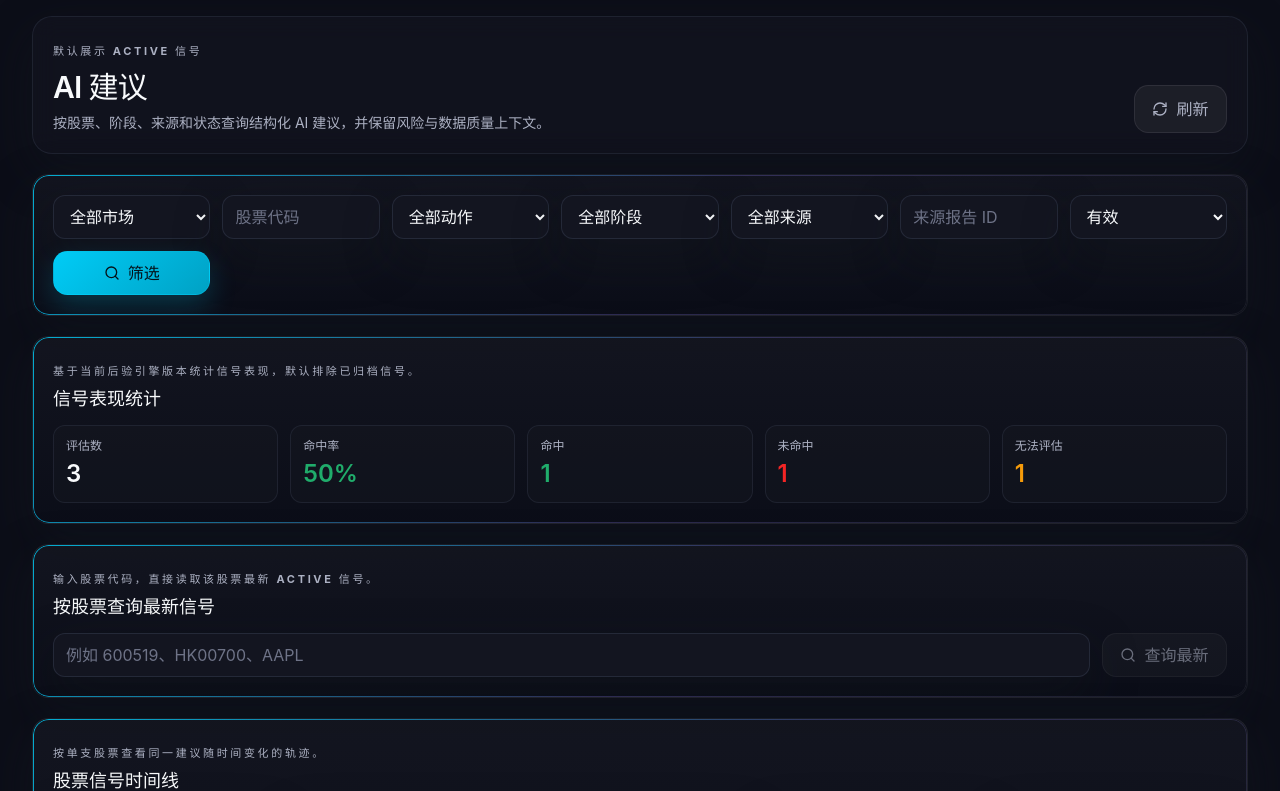
Test: DecisionSignalsPage › renders latest empty and error states
The image size is (1280, 791).
In the field named "最新股票代码": (571, 655) [53,633,1090,677], type "600519"
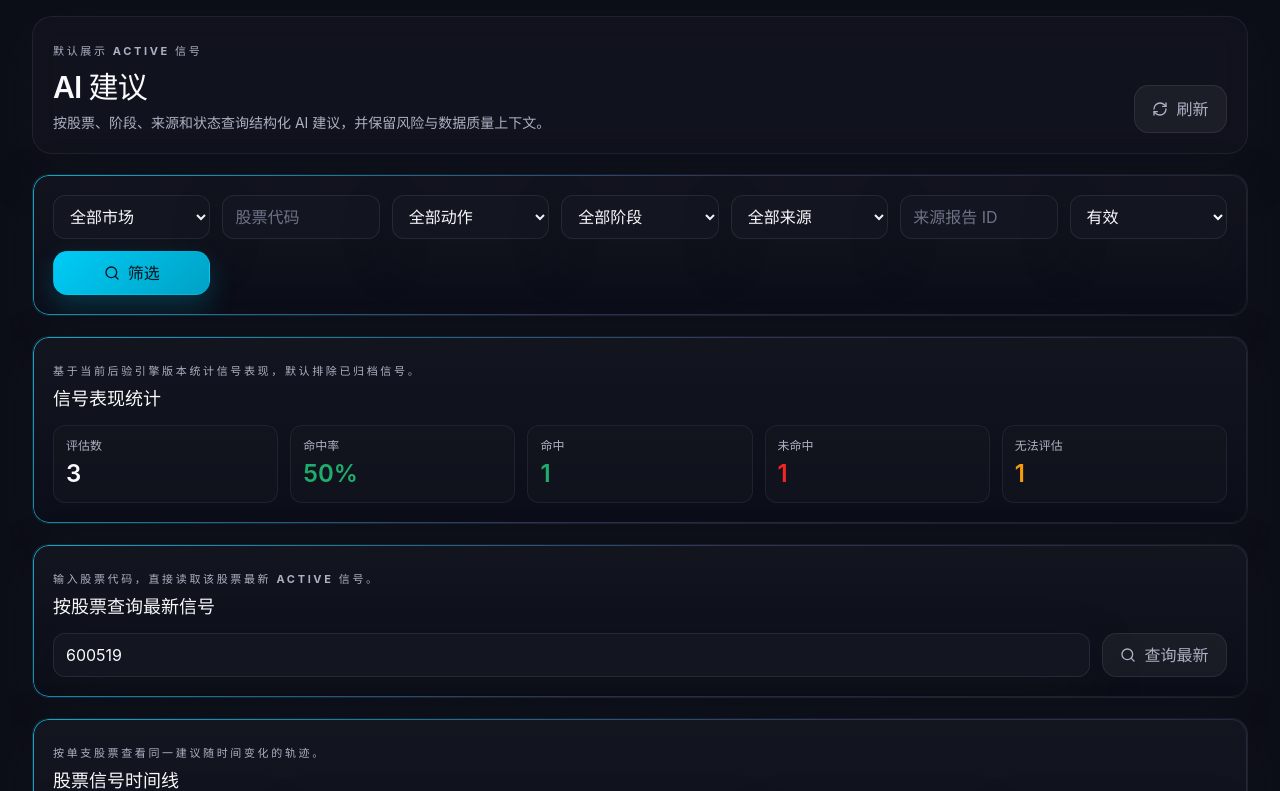
Click the button "查询最新": (1164, 655) [1102,633,1227,677]
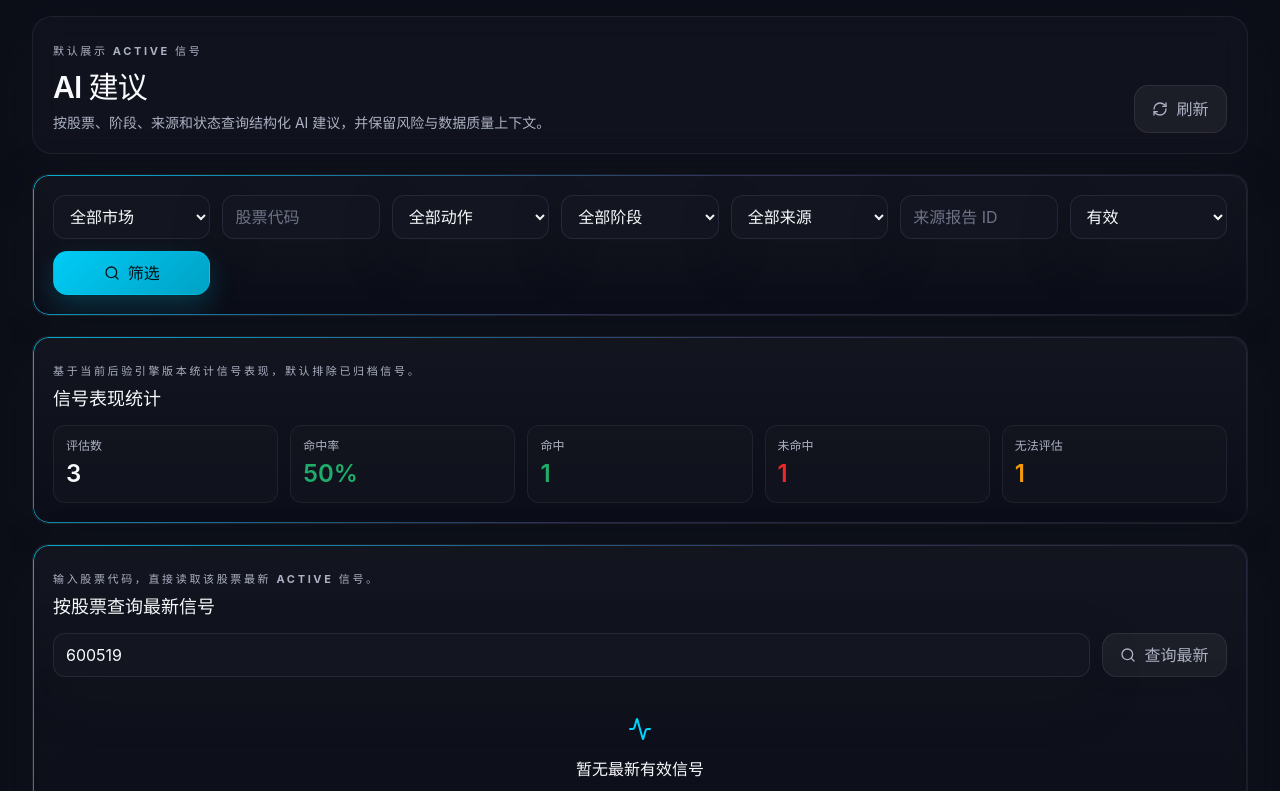
Expected: the heading "暂无最新有效信号" is shown, [576,759,704,779]
Click the button "查询最新": (1164, 655) [1102,633,1227,677]
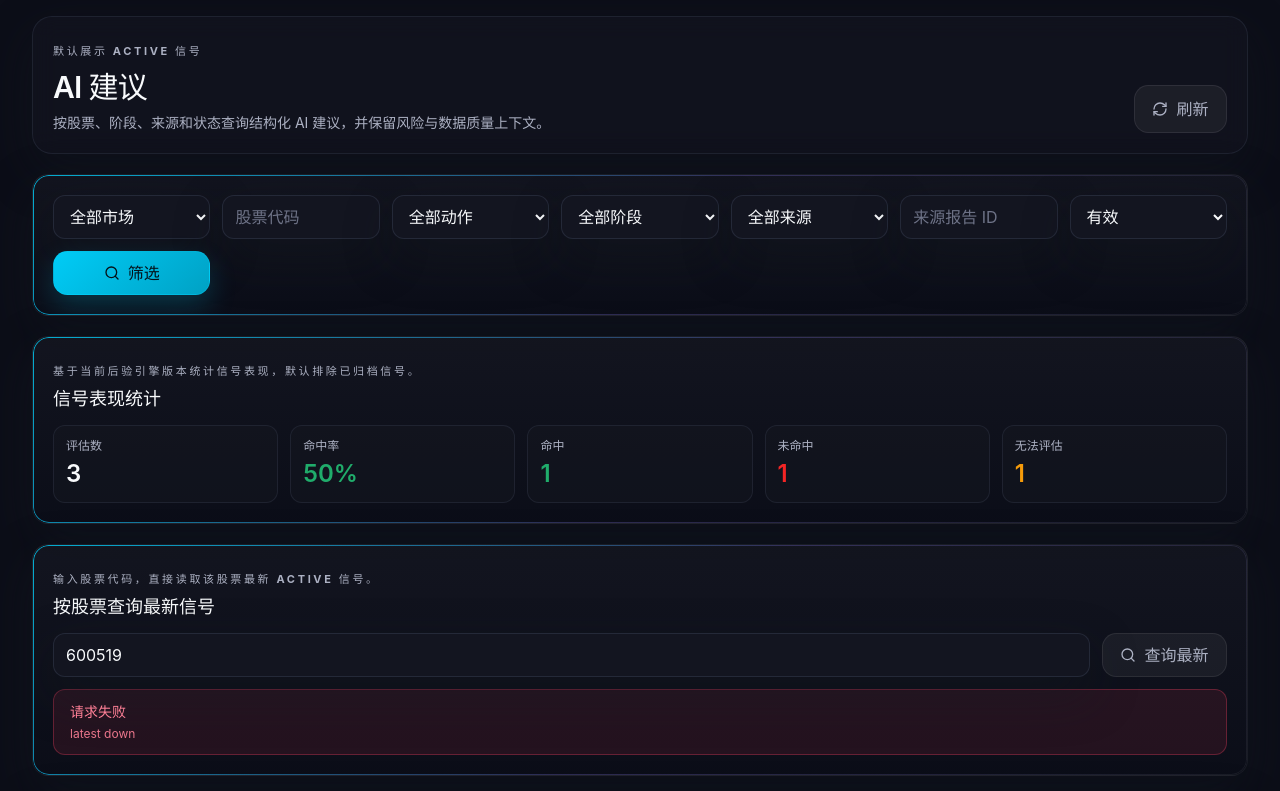
Expected: the message shows "latest down", [70,726,135,741]
